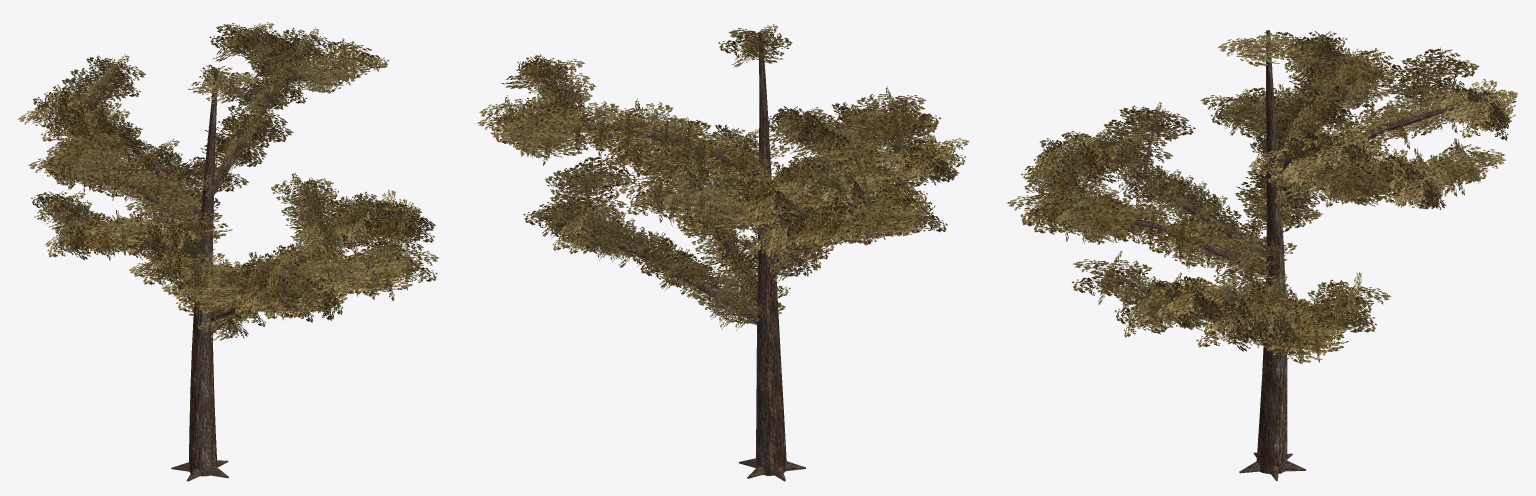
File: tree_3d_04_golden_beige_lod0.glb
3 renders of one model, left to right at view 1: azimuth 30°, elevation 25°; view 2: azimuth 150°, elevation 25°; view 3: azimuth 270°, elevation 25°, orthographic. The views are drawn at different scales.
Parts seen in each view (by area): view 1: foliage_cards, wood_geometry; view 2: foliage_cards, wood_geometry; view 3: foliage_cards, wood_geometry.
Boxes of the visible parts, <box> form: foliage_cards: <box>18,22,439,341</box>; wood_geometry: <box>61,35,402,481</box>; foliage_cards: <box>477,24,969,330</box>; wood_geometry: <box>534,33,927,481</box>; foliage_cards: <box>1007,31,1517,363</box>; wood_geometry: <box>1051,30,1492,480</box>.
Bounding box in the file's own units: 8.14 × 8.31 × 8.74.
Materials: 2 (2 with a texture image).
